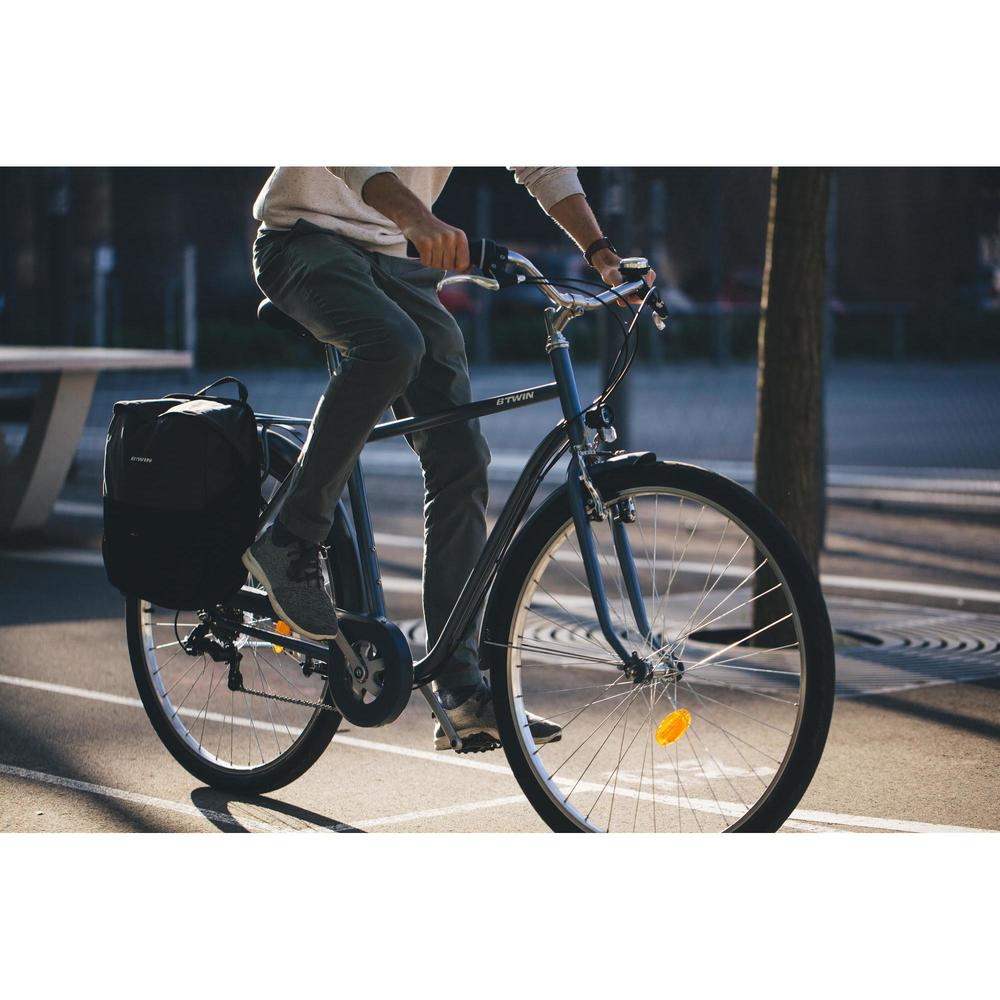UrbanBike: (122, 218, 844, 835)
